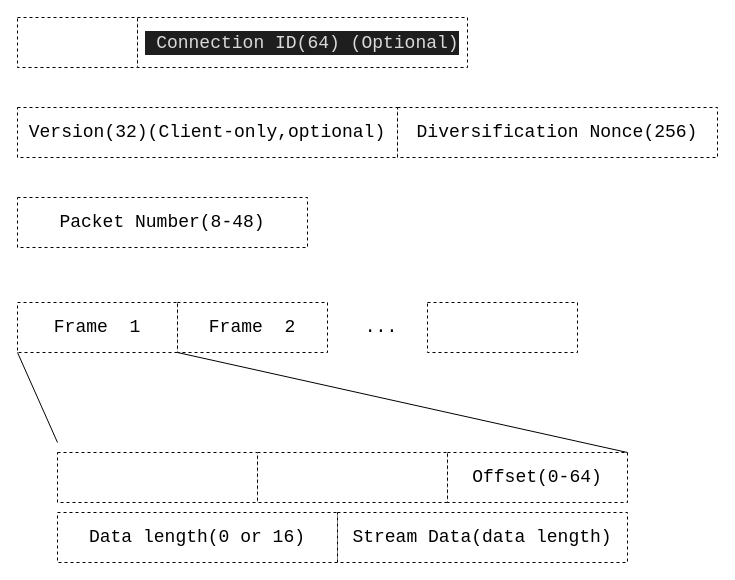
This 735x580 diagram has some shape labels left out. The centre of each missing label's shape, as x and y in pixels:
Flags(8): the point at 77,42
Frame N: the point at 502,327
Stream ID(8-32): the point at 352,477
Type(8): the point at 157,477
